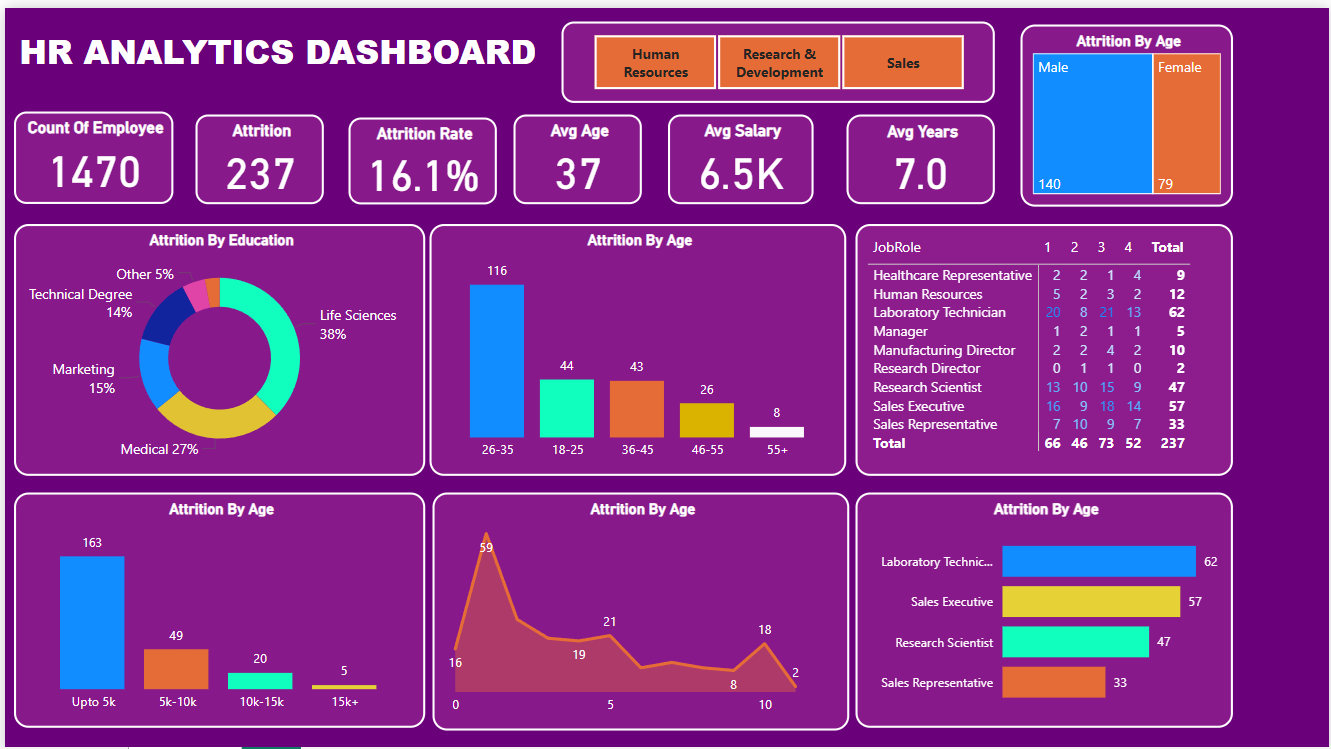

The dashboard page shown, as its layout file describes it:
{"tool":"powerbi","page":{"name":"Page 1","canvas":[1280,720],"ordinal":0},"visuals":[{"type":"card","title":"Count Of Employee","fields":{"Values":["CountNonNull(HR_Analytics.EmpID)"]},"box":[8.1,100,154.1,89.2],"z":0},{"type":"card","title":"Avg  Age","fields":{"Values":["Avg(HR_Analytics.Age)"]},"box":[491.9,102.7,124.3,86.5],"z":1000},{"type":"card","title":"Attrition","fields":{"Values":["Sum(HR_Analytics.AttritionCount)"]},"box":[183.8,102.7,124.3,86.5],"z":2000},{"type":"card","title":"Attrition Rate","fields":{"Values":["HR_Analytics.attritionrate"]},"box":[332.4,105.4,143.2,83.8],"z":3000},{"type":"card","title":"Avg Salary","fields":{"Values":["Avg(HR_Analytics.MonthlyIncome)"]},"box":[640.5,102.7,140.5,86.5],"z":4000},{"type":"card","title":"Avg Years","fields":{"Values":["Avg(HR_Analytics.YearsAtCompany)"]},"box":[813.5,102.7,143.2,86.5],"z":5000},{"type":"donutChart","title":"Attrition By Education","fields":{"Category":["HR_Analytics.EducationField"],"Y":["Sum(HR_Analytics.AttritionCount)"]},"box":[8.1,208.1,397.3,243.2],"z":6000},{"type":"columnChart","title":"Attrition By Age","fields":{"Category":["HR_Analytics.AgeGroup"],"Y":["Sum(HR_Analytics.AttritionCount)"]},"box":[410.8,208.1,402.7,243.2],"z":7000},{"type":"pivotTable","fields":{"Rows":["HR_Analytics.JobRole"],"Values":["Sum(HR_Analytics.AttritionCount)"],"Columns":["HR_Analytics.JobSatisfaction"]},"box":[821.6,208.1,364.9,243.2],"z":8000},{"type":"columnChart","title":"Attrition By Age","fields":{"Category":["HR_Analytics.SalarySlab"],"Y":["Sum(HR_Analytics.AttritionCount)"]},"box":[8.1,467.6,397.3,227],"z":9000},{"type":"barChart","title":"Attrition By Age","fields":{"Category":["HR_Analytics.JobRole"],"Y":["Sum(HR_Analytics.AttritionCount)"]},"box":[821.6,467.6,364.9,227],"z":10000},{"type":"areaChart","title":"Attrition By Age","fields":{"Category":["HR_Analytics.YearsAtCompany"],"Y":["Sum(HR_Analytics.AttritionCount)"]},"box":[413.5,467.6,402.7,229.7],"z":11000},{"type":"treemap","title":"Attrition By Age","fields":{"Group":["HR_Analytics.Gender"],"Values":["Sum(HR_Analytics.AttritionCount)"]},"box":[981.1,16.2,205.4,175.7],"z":12000},{"type":"slicer","fields":{"Values":["HR_Analytics.Department"]},"box":[537.8,13.5,418.9,78.4],"z":13000},{"type":"textbox","box":[8.1,13.5,529.7,78.4],"z":14000}]}

Visuals, with their boxes in screenshot pixels (x1, y1, x2, y2), scaled from the page's 1280x720 canvas onto the 1331x749 screenshot:
"Count Of Employee" card: <box>8,104,169,197</box>
"Avg  Age" card: <box>511,107,641,197</box>
"Attrition" card: <box>191,107,320,197</box>
"Attrition Rate" card: <box>346,110,495,197</box>
"Avg Salary" card: <box>666,107,812,197</box>
"Avg Years" card: <box>846,107,995,197</box>
"Attrition By Education" donutChart: <box>8,216,422,469</box>
"Attrition By Age" columnChart: <box>427,216,846,469</box>
pivotTable - HR_Analytics.JobRole x Sum(HR_Analytics.AttritionCount): <box>854,216,1234,469</box>
"Attrition By Age" columnChart: <box>8,486,422,723</box>
"Attrition By Age" barChart: <box>854,486,1234,723</box>
"Attrition By Age" areaChart: <box>430,486,849,725</box>
"Attrition By Age" treemap: <box>1020,17,1234,200</box>
slicer - HR_Analytics.Department: <box>559,14,995,96</box>
textbox: <box>8,14,559,96</box>
